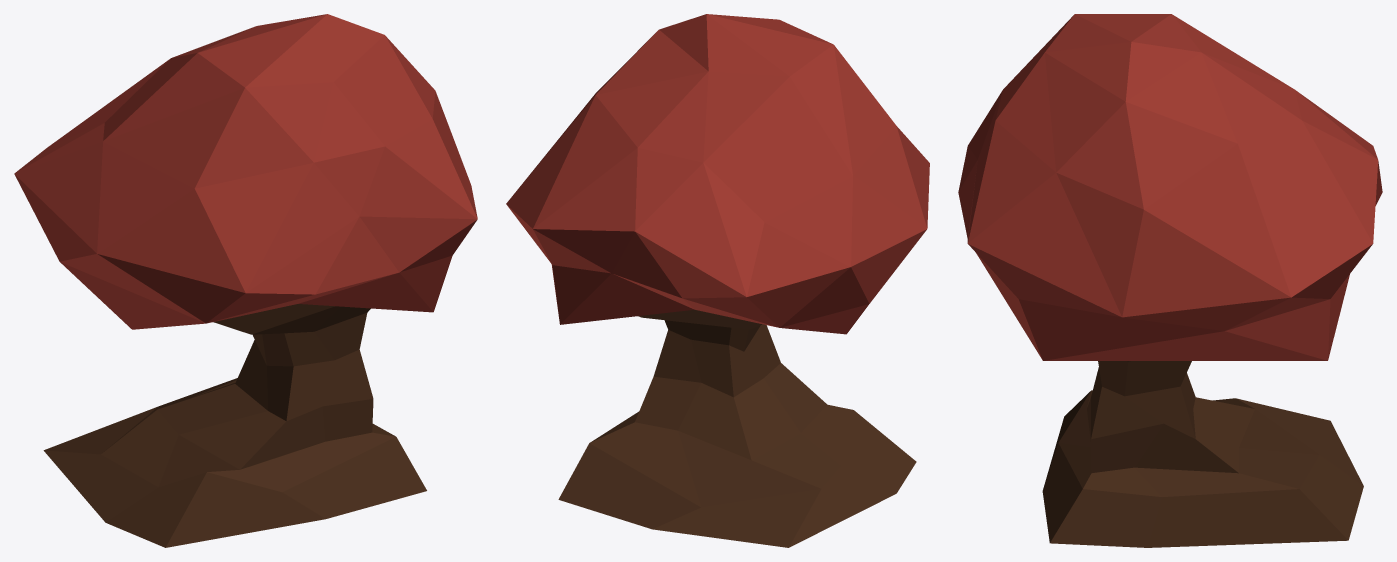
The model's file is Tree_25_Red.fbx.
3 renders of one model, left to right at view 1: azimuth 30°, elevation 25°; view 2: azimuth 150°, elevation 25°; view 3: azimuth 270°, elevation 25°, orthographic. The views are drawn at different scales.
Parts seen in each view (by area): view 1: Tree_25_Red_Part_1, Tree_25_Red_Part_3, Tree_25_Red_Part_2; view 2: Tree_25_Red_Part_1, Tree_25_Red_Part_3, Tree_25_Red_Part_2; view 3: Tree_25_Red_Part_1, Tree_25_Red_Part_3, Tree_25_Red_Part_2.
Boxes of the visible parts, x1,y1,x2,y2 form: Tree_25_Red_Part_1: (14, 14, 477, 329); Tree_25_Red_Part_3: (43, 378, 426, 547); Tree_25_Red_Part_2: (158, 304, 373, 469); Tree_25_Red_Part_1: (506, 14, 929, 334); Tree_25_Red_Part_3: (558, 405, 916, 547); Tree_25_Red_Part_2: (635, 309, 827, 460); Tree_25_Red_Part_1: (958, 14, 1382, 360); Tree_25_Red_Part_3: (1042, 390, 1363, 547); Tree_25_Red_Part_2: (1087, 361, 1254, 473).
Size of the model in its own units: 666 by 786 by 641.
